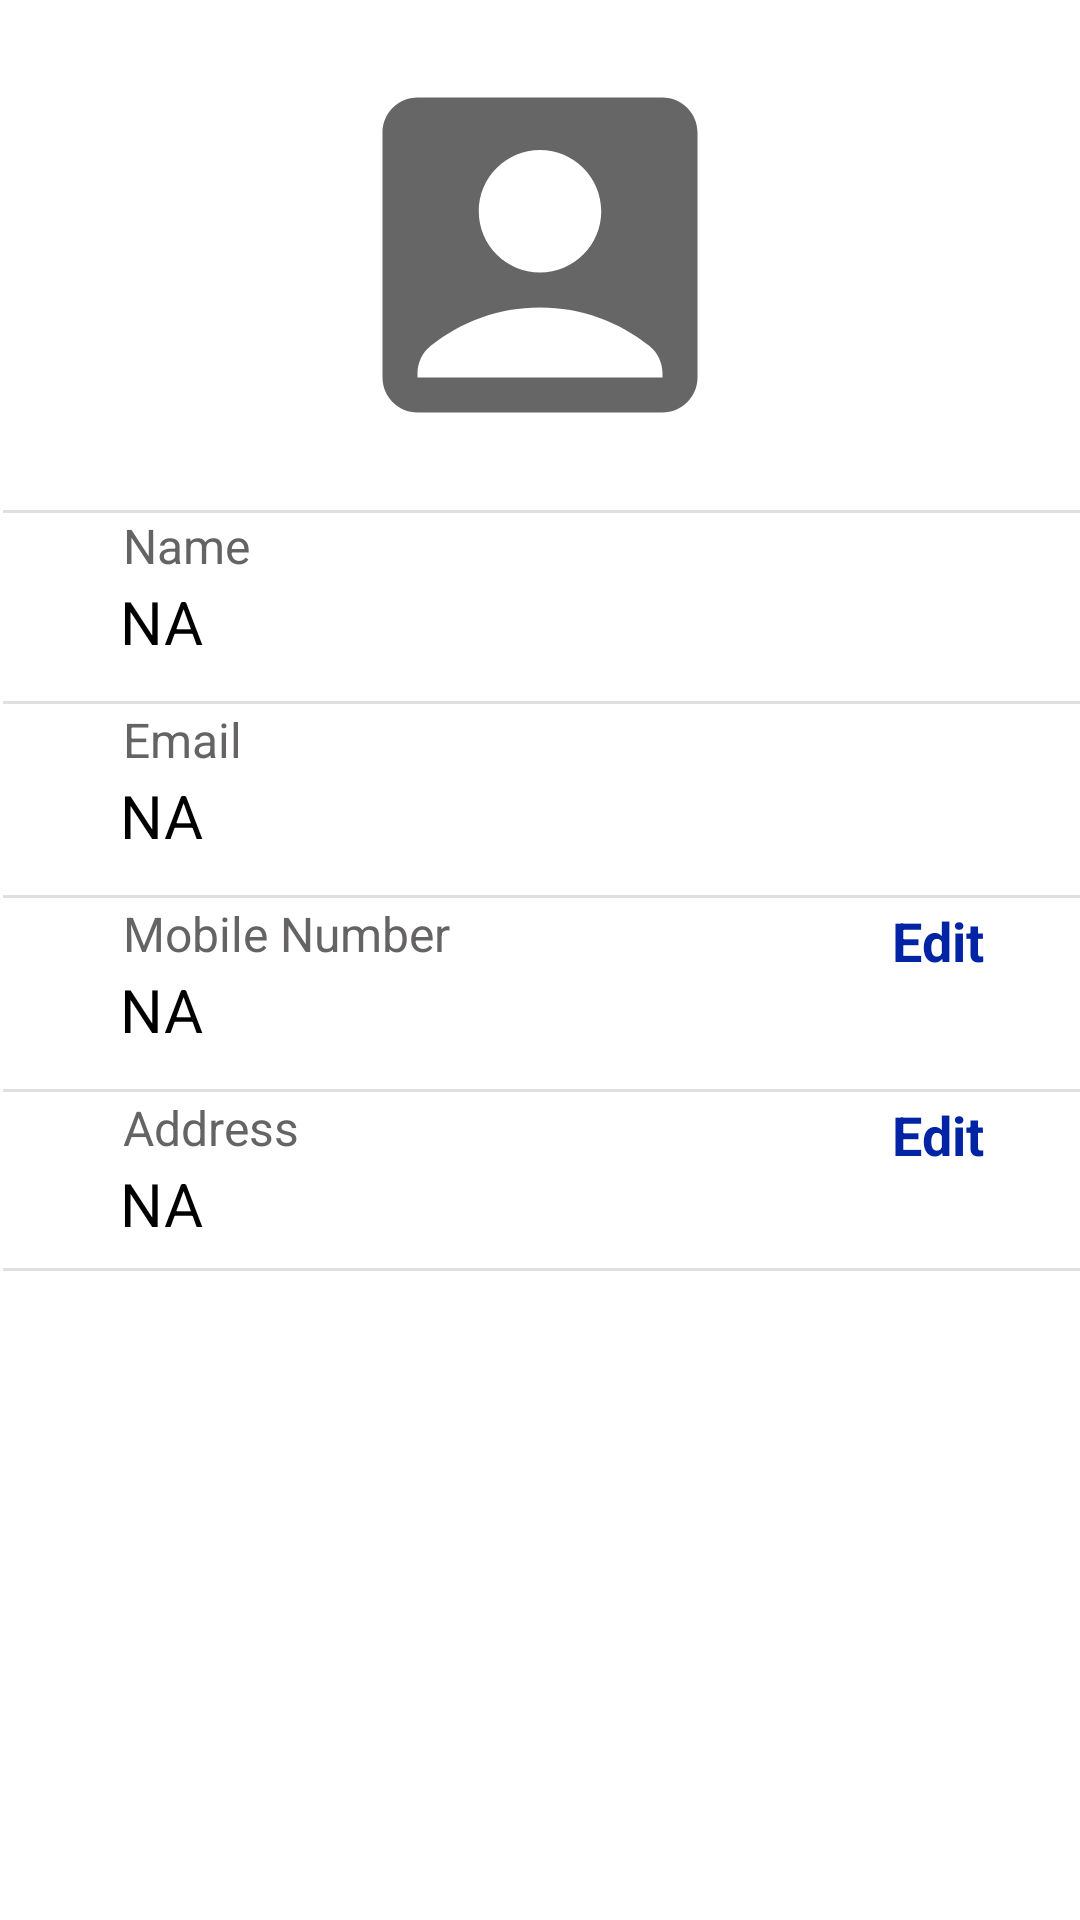

Icon click points for this 1080w x 1920h phone screenshot, format (x,y):
account box: (540,255)
